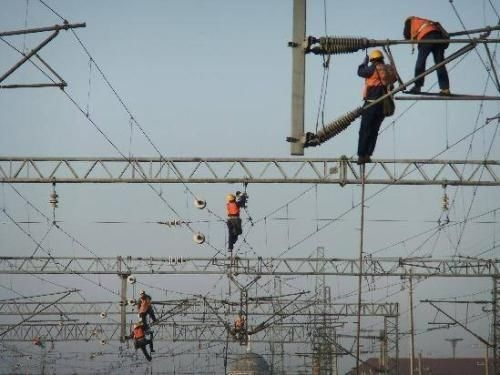yellow: (367, 48, 386, 64), (226, 192, 236, 204)
